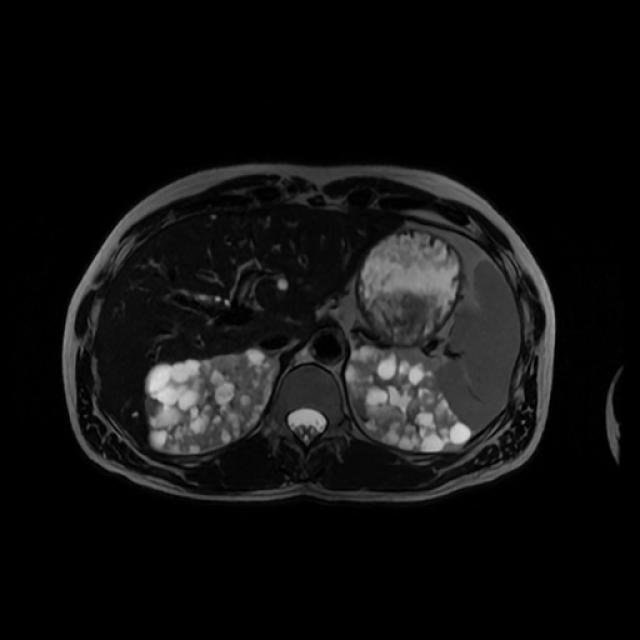sag: (145, 348, 276, 452)
sol: (348, 344, 471, 450)
